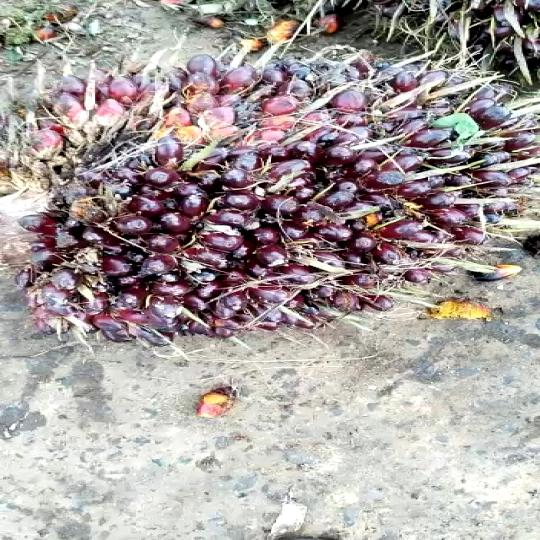kurang masak: (23, 38, 540, 332)
